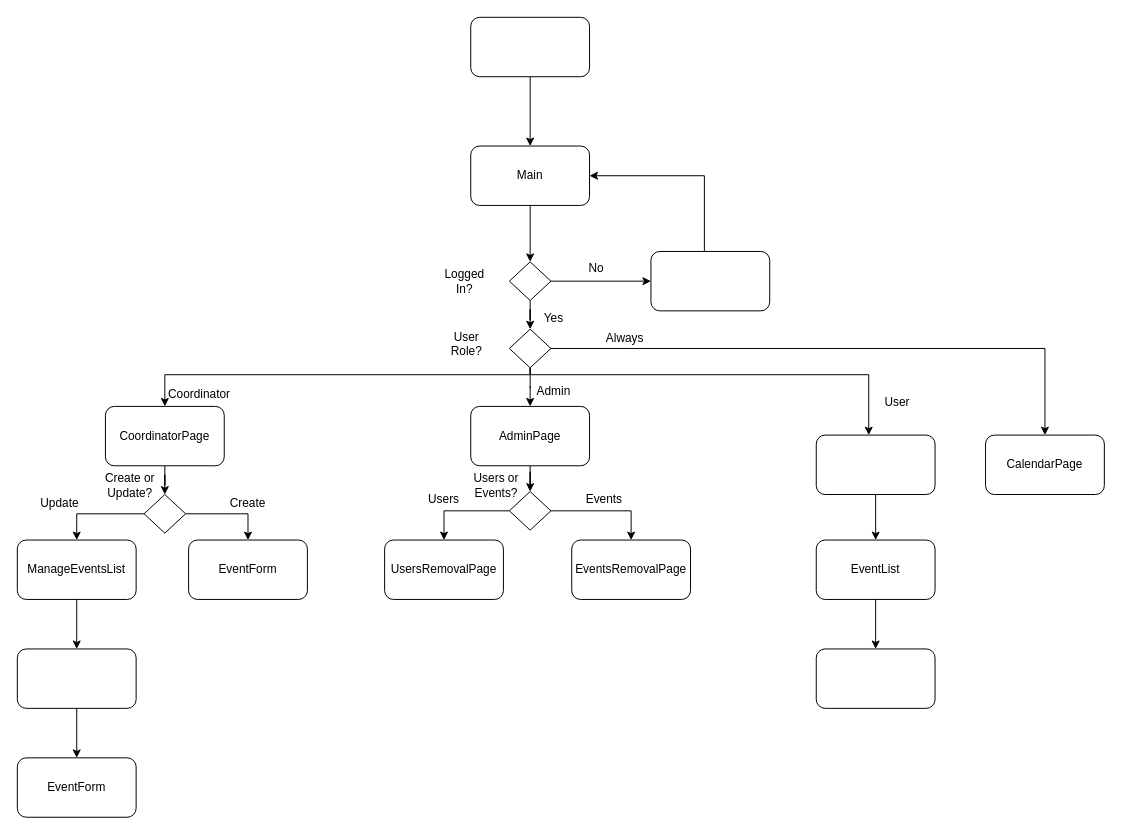
Some shapes in this 1122 by 835 pixel diagram are drawn without their labels. The centre of each missing label's shape, as x and y in pixels:
App: pixel 530 46
EventDisplay: pixel 875 678
EventUpdateForm: pixel 76 678
LandingPage: pixel 710 280
UserPage: pixel 875 464
